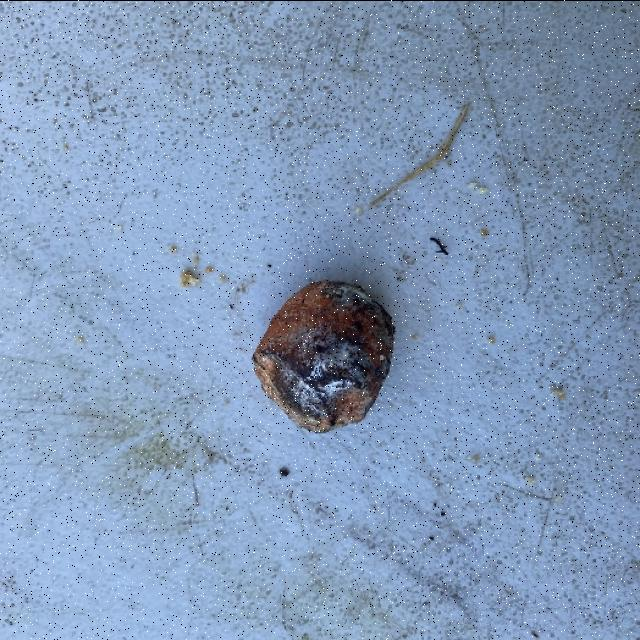organik: (249, 266, 395, 437)
